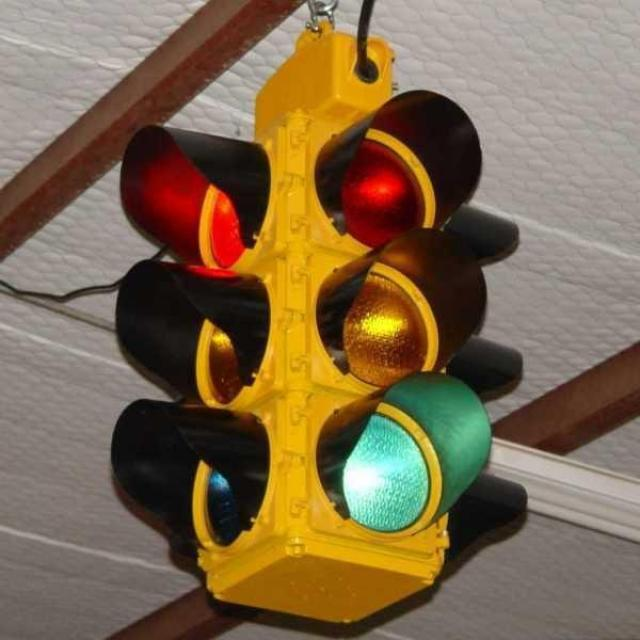Traffic Light -Green-: (308, 53, 521, 562)
